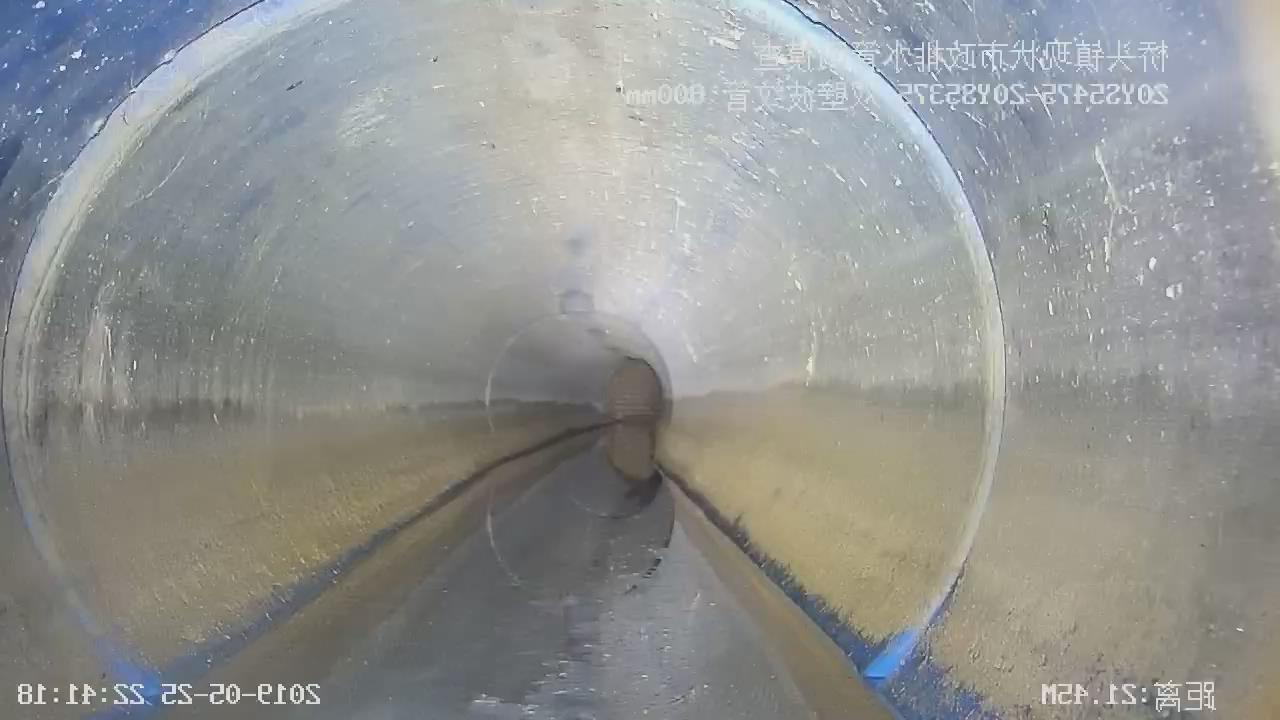CKTJ: (1, 0, 351, 656), (728, 0, 1007, 673)
